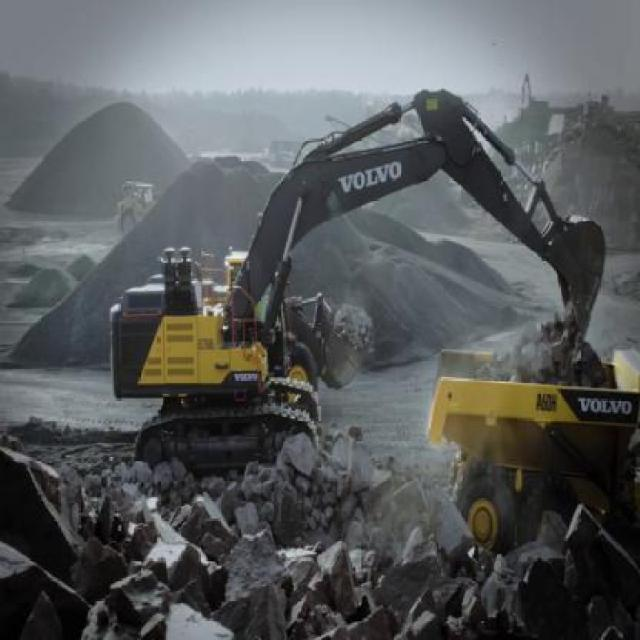dump_truck: (425, 340, 638, 552)
excavator: (108, 87, 609, 468)
